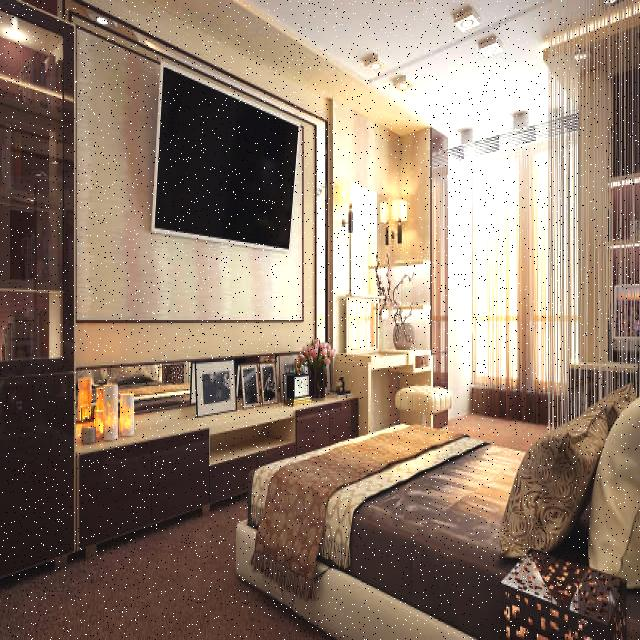bed: (259, 376, 631, 615)
